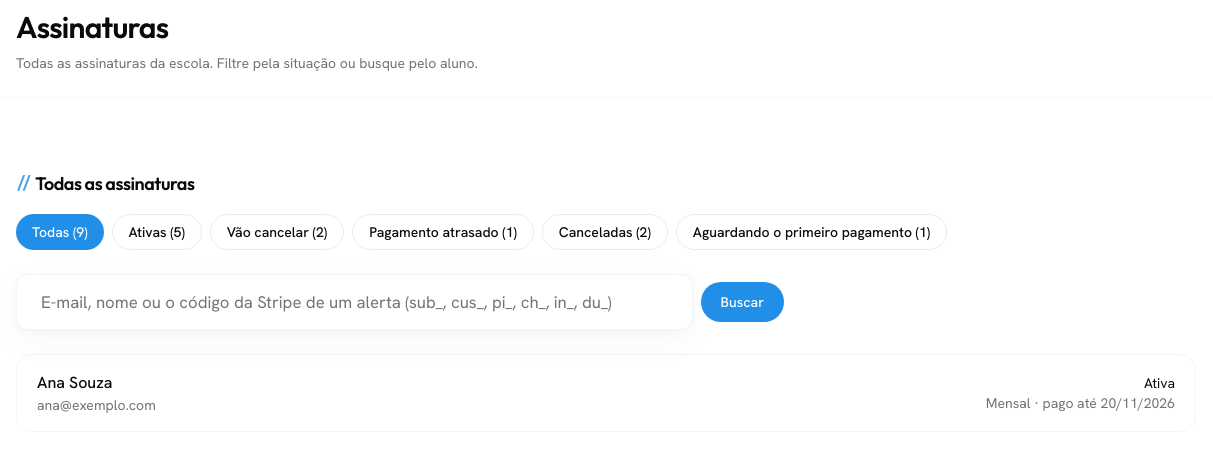
it: Cobrança → Assinaturas — os estados › erro depois de já ter carregado (trocou o filtro e falhou): avisa, e não deixa a lista do outro filtro na tela
Expected: the link "Ana Souza" is shown, [37,372,112,393]
Click the button "Canceladas (2)".
click(605, 232)  # box [542,214,668,250]
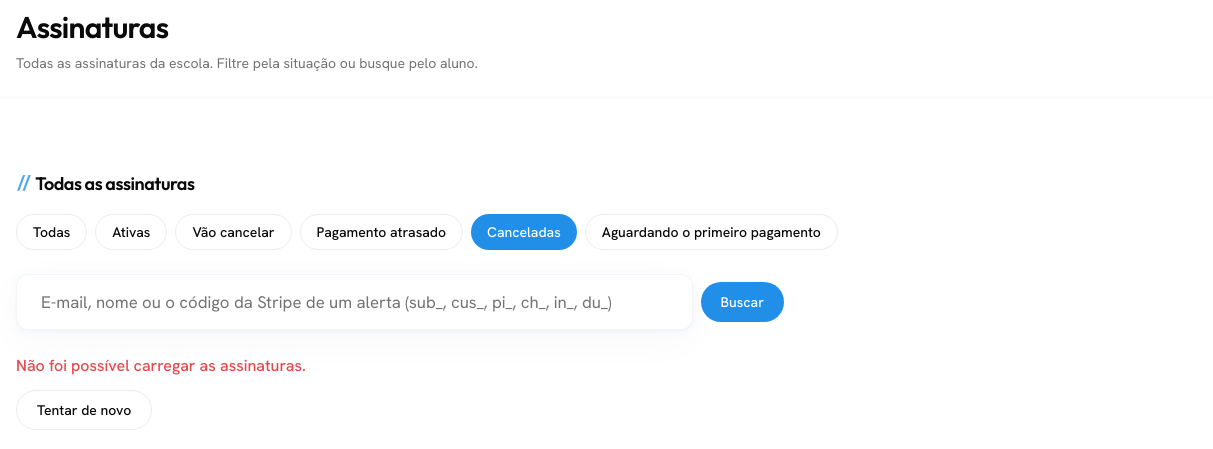
Expected: the message shows "Não foi possível carregar as assinaturas.", [16,355,306,376]
Expected: the link "Ana Souza" is gone
